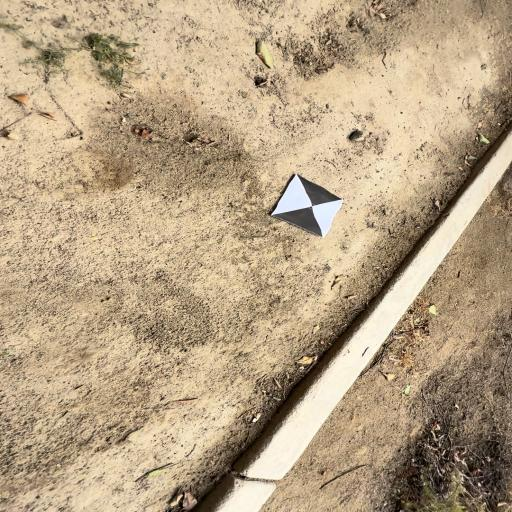target: (271, 174, 344, 237)
